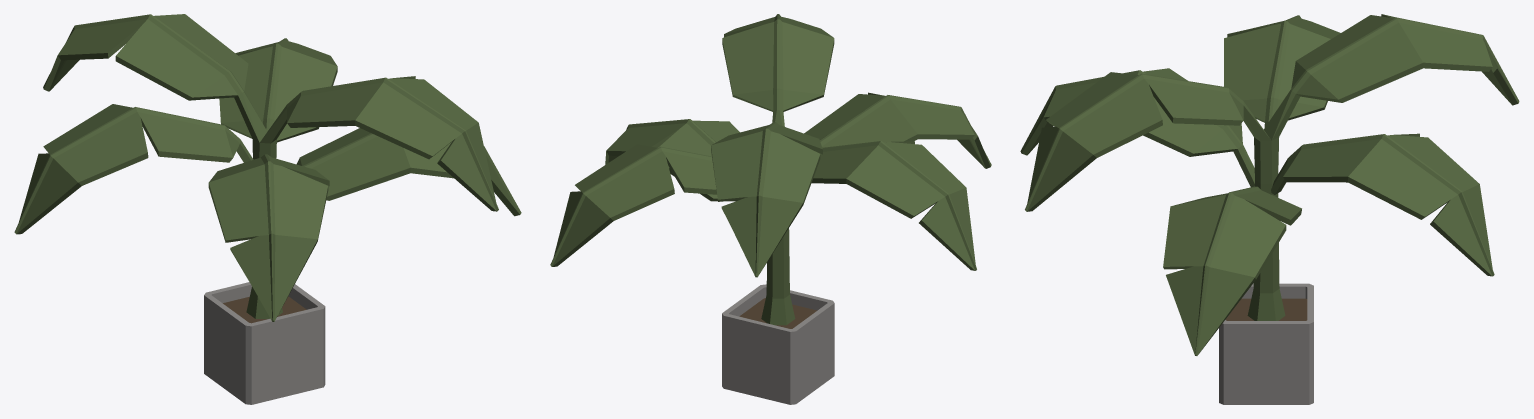
Rendered from SM_Props_Interior_Plant_Large_06.fbx.
3 views of the same model, side by side, from view 1: azimuth 30°, elevation 25°; view 2: azimuth 150°, elevation 25°; view 3: azimuth 270°, elevation 25° (orthographic). The views are drawn at different scales.
Parts seen in each view (by area): view 1: SM_Props_Interior_Plant_Large_06; view 2: SM_Props_Interior_Plant_Large_06; view 3: SM_Props_Interior_Plant_Large_06.
Boxes of the visible parts, left/top/right/bottom form: SM_Props_Interior_Plant_Large_06: left=14, top=14, right=521, bottom=404; SM_Props_Interior_Plant_Large_06: left=550, top=14, right=991, bottom=404; SM_Props_Interior_Plant_Large_06: left=1020, top=14, right=1519, bottom=404.
Bounding box in the file's own units: 271 × 188 × 250.
